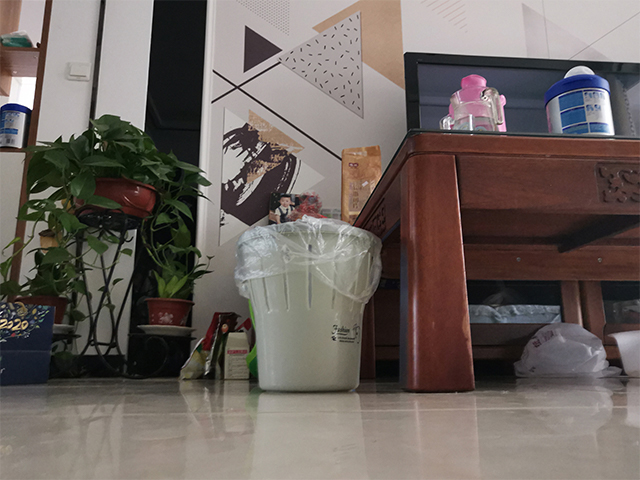table: (351, 127, 640, 398)
trashcan: (238, 216, 382, 396)
